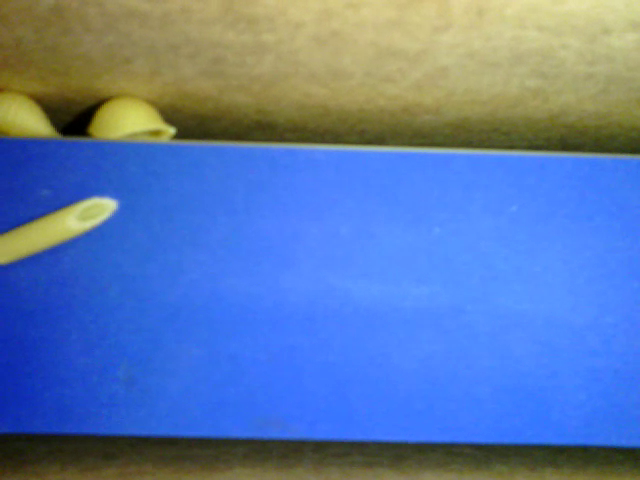penne: (1, 193, 120, 266)
shell: (85, 95, 176, 140), (1, 90, 69, 139)
